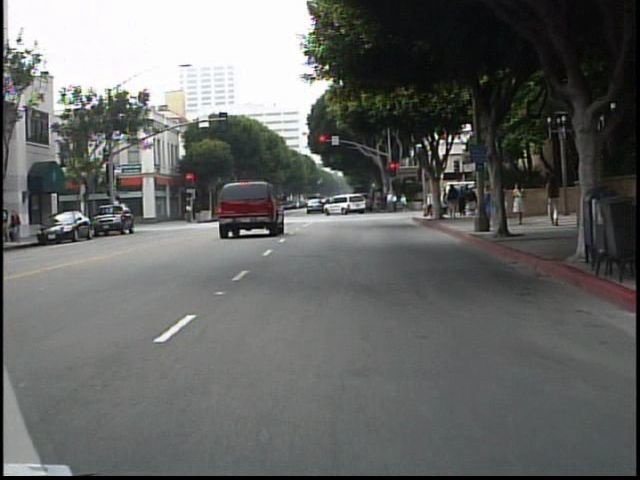person: (539, 169, 564, 230), (509, 181, 526, 227), (493, 180, 508, 224), (421, 188, 436, 220)
